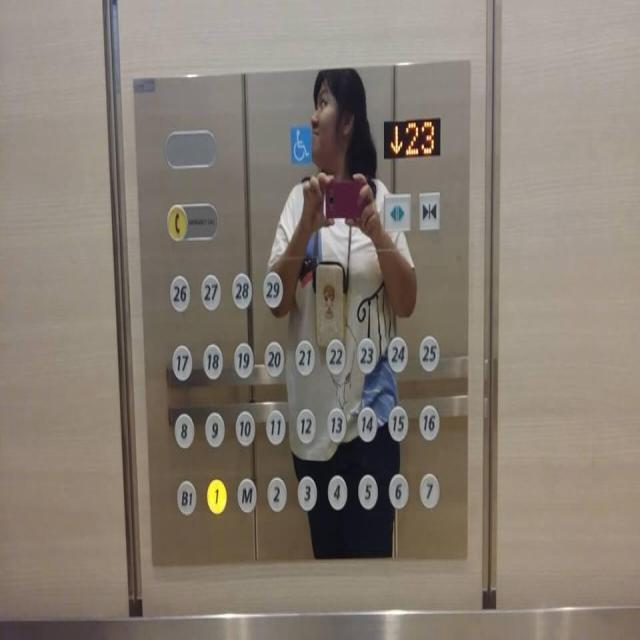1: (205, 476, 227, 516)
10: (233, 408, 256, 447)
11: (264, 408, 285, 446)
12: (294, 407, 316, 443)
13: (324, 406, 346, 444)
14: (356, 404, 377, 443)
15: (386, 403, 409, 442)
16: (417, 402, 440, 442)
17: (170, 341, 193, 382)
18: (202, 340, 224, 381)
19: (232, 339, 254, 379)
2: (266, 474, 288, 513)
20: (262, 339, 284, 377)
21: (293, 338, 315, 377)
22: (323, 336, 347, 374)
23: (355, 337, 377, 373)
24: (386, 334, 409, 374)
25: (417, 333, 440, 372)
26: (168, 272, 191, 313)
27: (199, 271, 221, 312)
28: (229, 269, 253, 311)
29: (262, 268, 284, 309)
3: (295, 472, 318, 512)
4: (325, 471, 349, 512)
5: (356, 471, 379, 512)
6: (386, 470, 409, 511)
7: (416, 470, 441, 510)
8: (172, 410, 195, 450)
9: (203, 408, 225, 448)
B1: (175, 478, 196, 516)
CH: (289, 123, 310, 164)
M: (235, 474, 258, 513)
call: (165, 200, 187, 241)
close: (417, 191, 440, 230)
led: (382, 116, 440, 159)
open: (382, 192, 410, 230)
